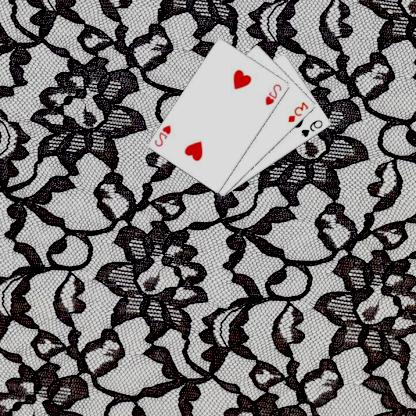2H: (264, 81, 285, 107), (154, 122, 174, 148)
3D: (287, 99, 312, 124)
9S: (300, 118, 326, 139)
